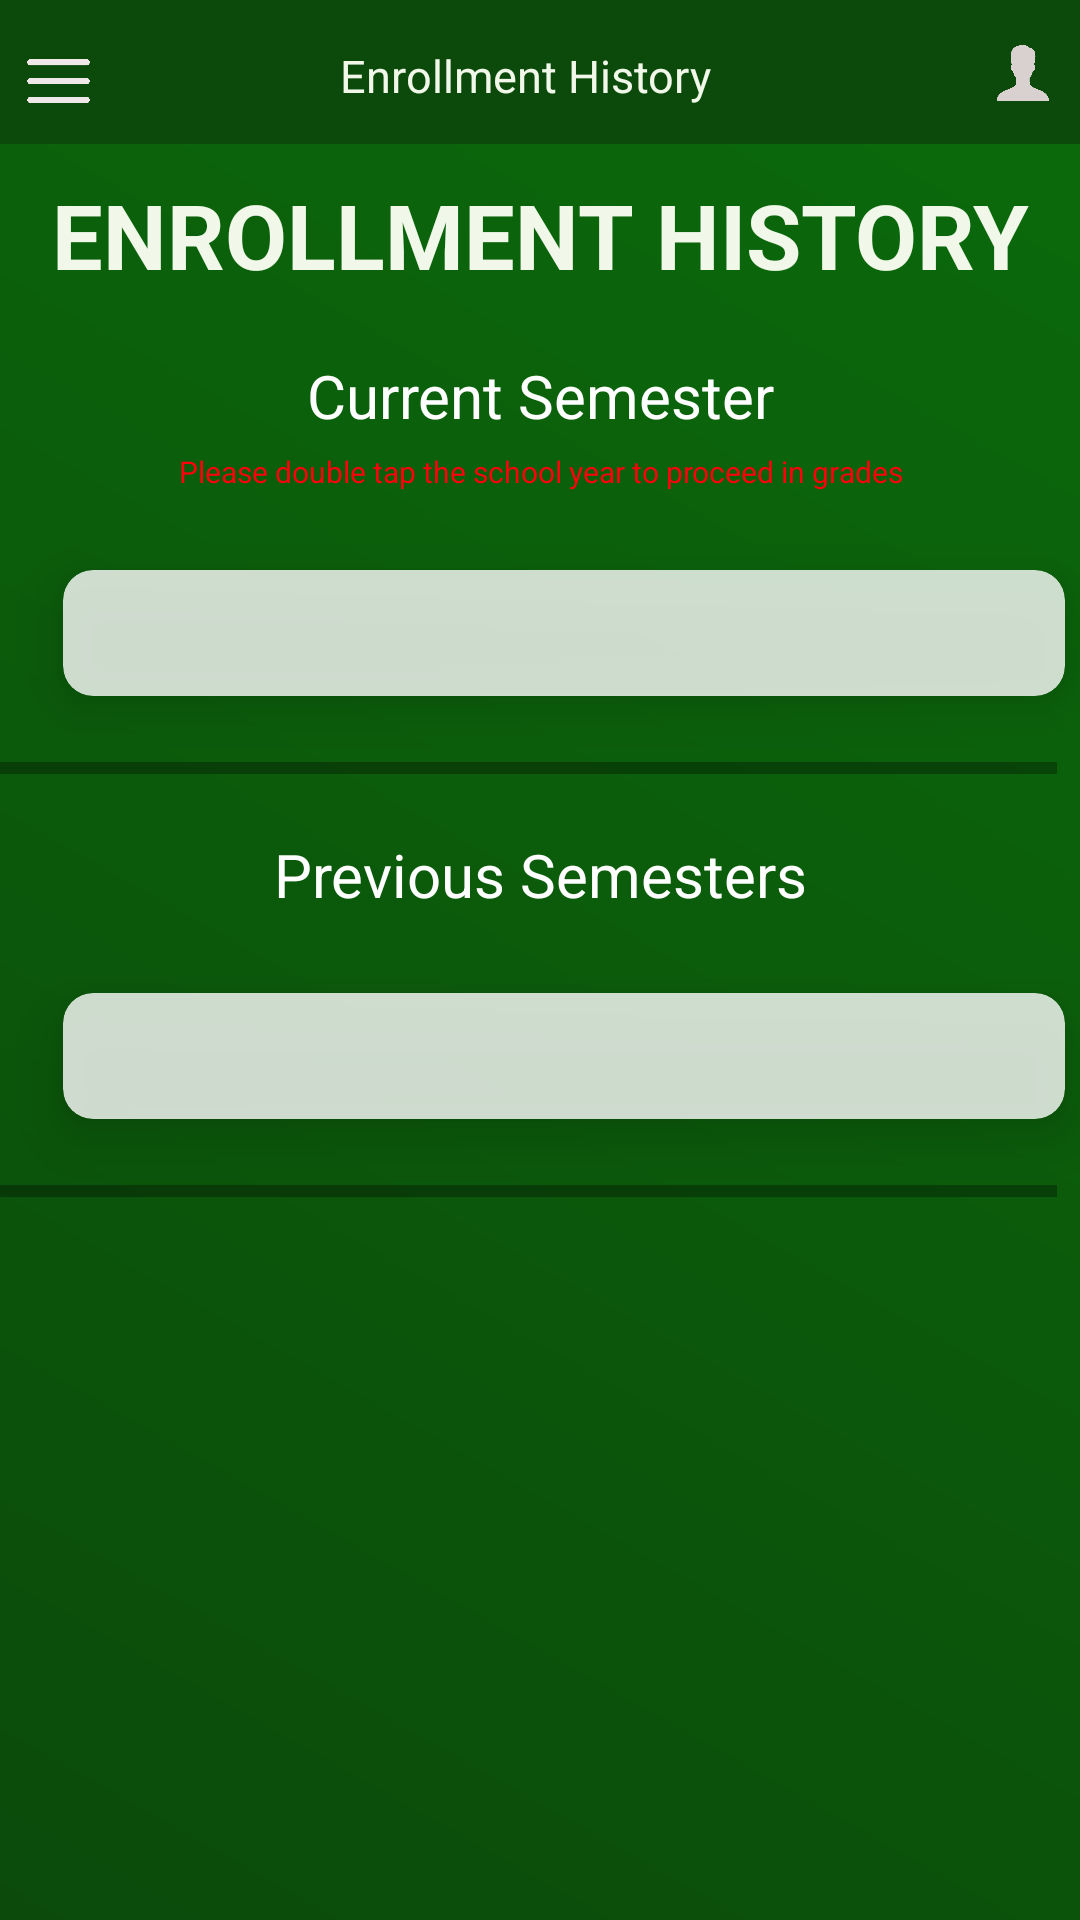

Icon click points for this 1080w x 1920h phone screenshot, format point (x, y):
hamburger menu: point (58, 81)
profile: point (1023, 73)
